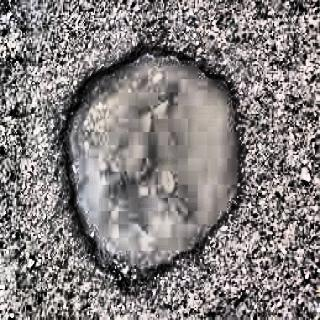pothole: (56, 42, 246, 293)
